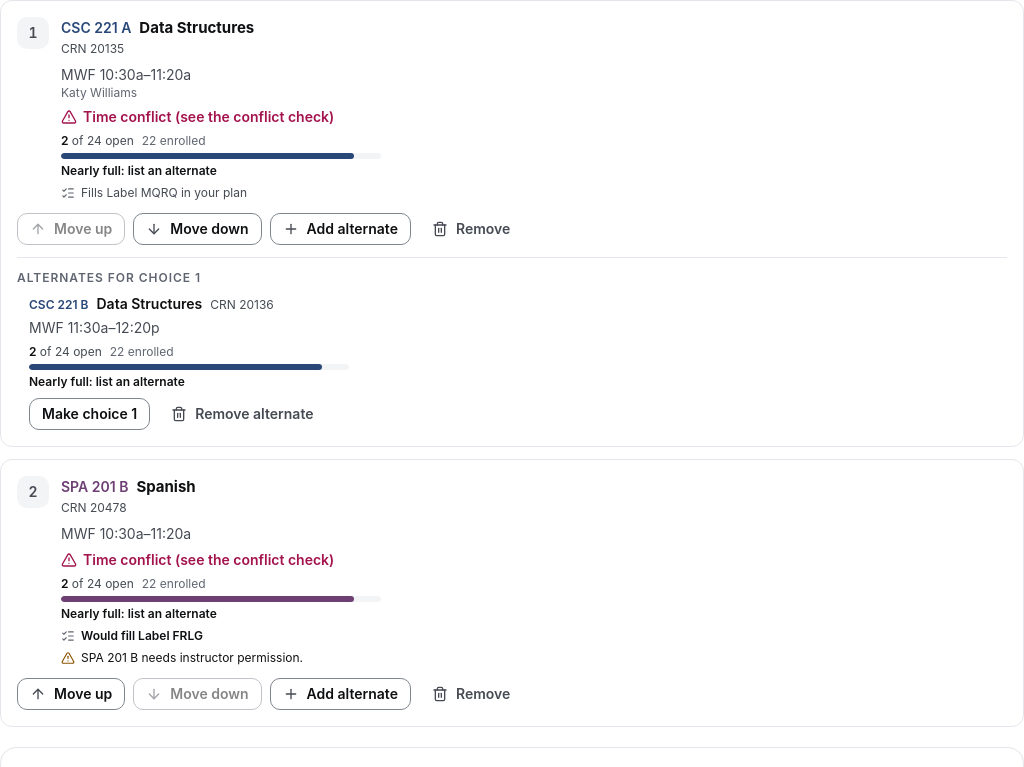
Scenario: WebTreeEditor › reverts and explains when a save fails
The image size is (1024, 767).
Click the button named "Move up SPA 201 B".
click(71, 694)  # box [17, 678, 125, 710]
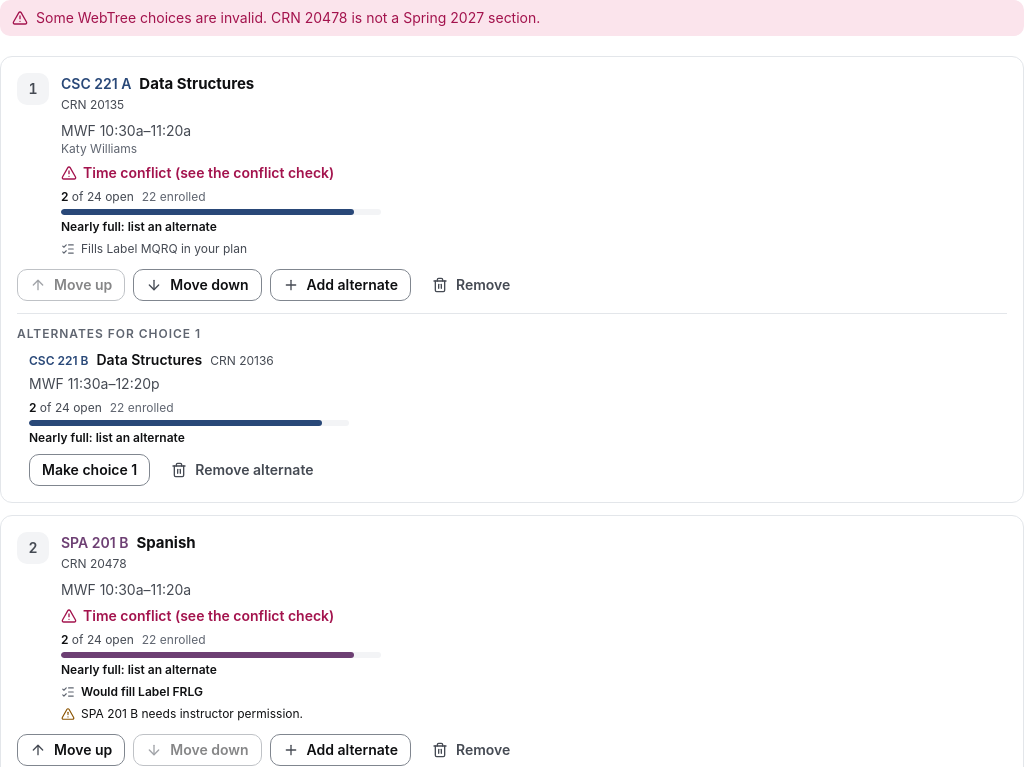
Expected: the list item with test id "webtree-choice" shows "CSC 221", [61, 75, 118, 92]
Result: the message reads "Some WebTree choices are invalid. CRN 20478 is not a Spring 2027 section." at [36, 9, 540, 26]
